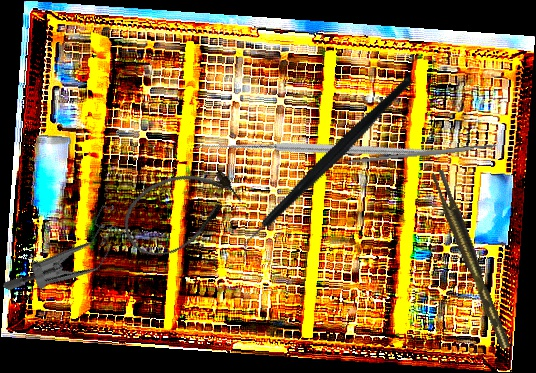Cannula: (110, 151, 250, 270)
Chopper: (200, 76, 452, 265)
Hook Surgical: (188, 37, 443, 272)
Scalpel Handle: (347, 143, 497, 165)
Speculum: (0, 177, 135, 327)
Tissue Forceps: (430, 167, 511, 353)
